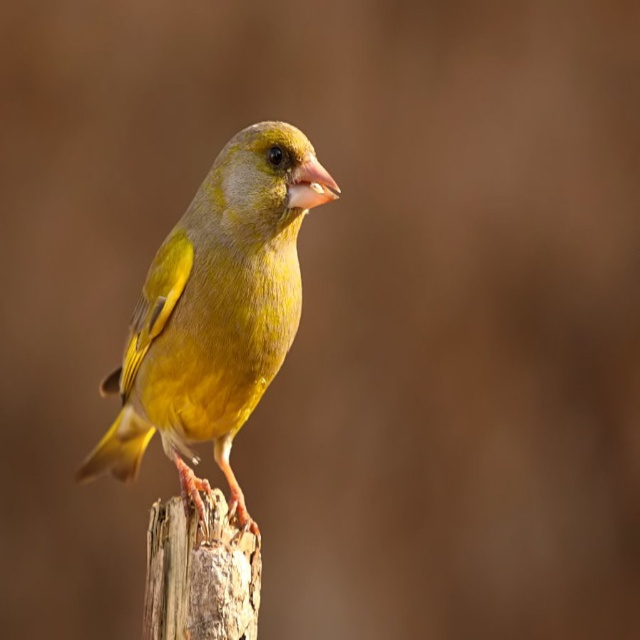Canary: (75, 119, 341, 548)
